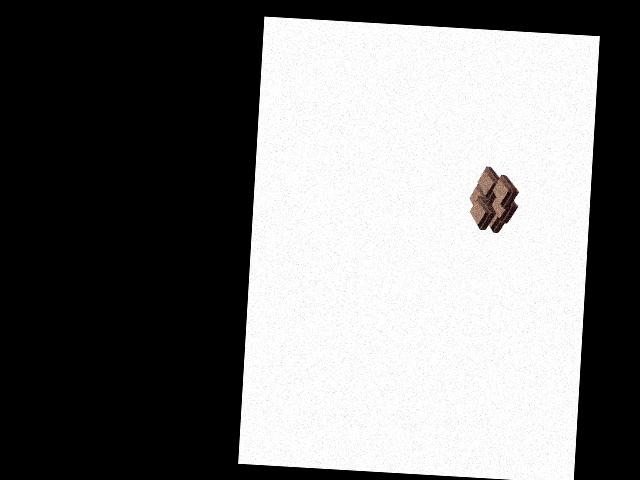chocolate: (465, 166, 518, 235)
